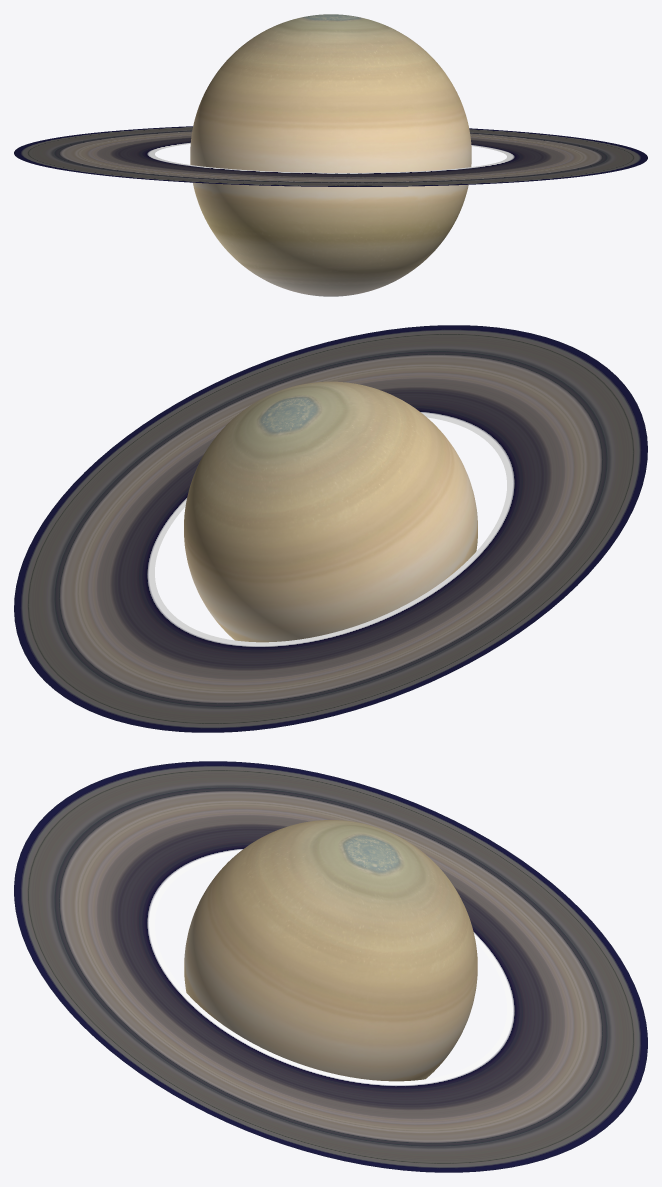
Rendered from Saturn .glb.
3 views of the same model, one above another, from view 1: azimuth 30°, elevation 25°; view 2: azimuth 150°, elevation 25°; view 3: azimuth 270°, elevation 25° (orthographic). The views are drawn at different scales.
Parts seen in each view (by area): view 1: Saturn, Ring; view 2: Ring, Saturn; view 3: Ring, Saturn.
Part boxes in pixels (box(x1,y1,x2,y2)): Saturn: box(190, 14, 471, 296); Ring: box(14, 126, 647, 186); Ring: box(14, 325, 647, 732); Saturn: box(184, 381, 477, 642); Ring: box(14, 761, 647, 1172); Saturn: box(184, 820, 477, 1081).
Size of the model in its own units: 4.42 by 2 by 4.3.
Materials: 2 (2 with a texture image).
